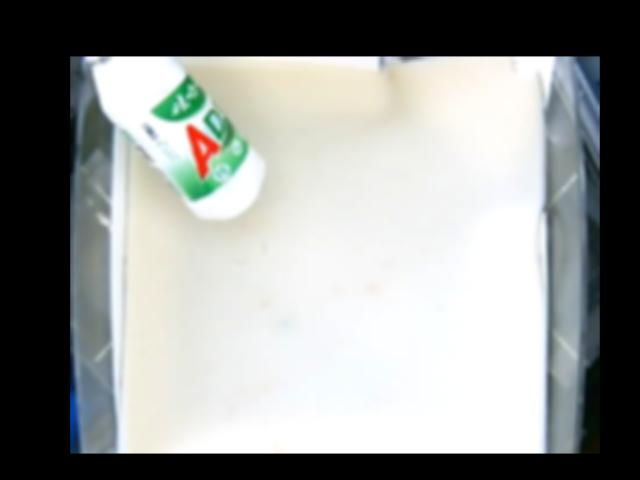Bottle: (84, 57, 267, 222)
